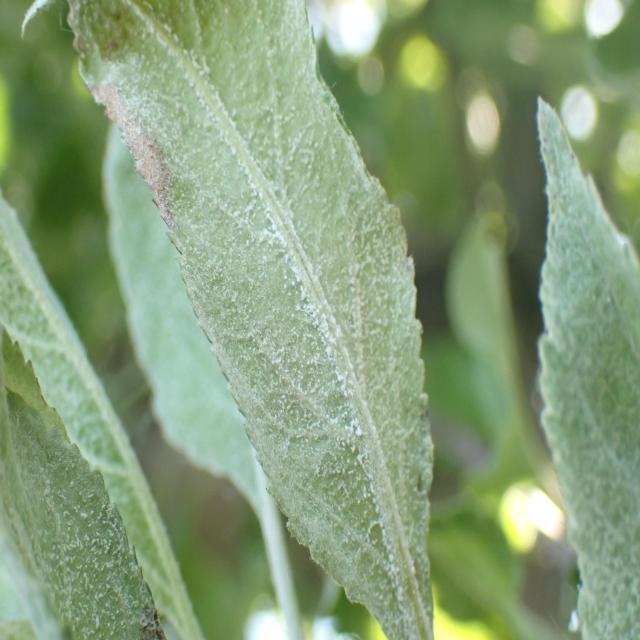Powdery_mildew: (54, 0, 453, 640), (0, 194, 202, 640), (524, 95, 640, 640)
